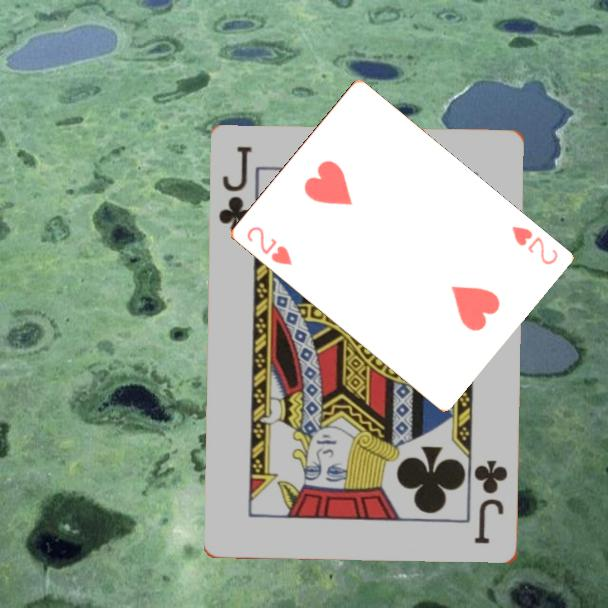c11: (216, 143, 256, 233), (472, 457, 511, 547)
h02: (508, 222, 561, 268), (243, 223, 295, 269)
